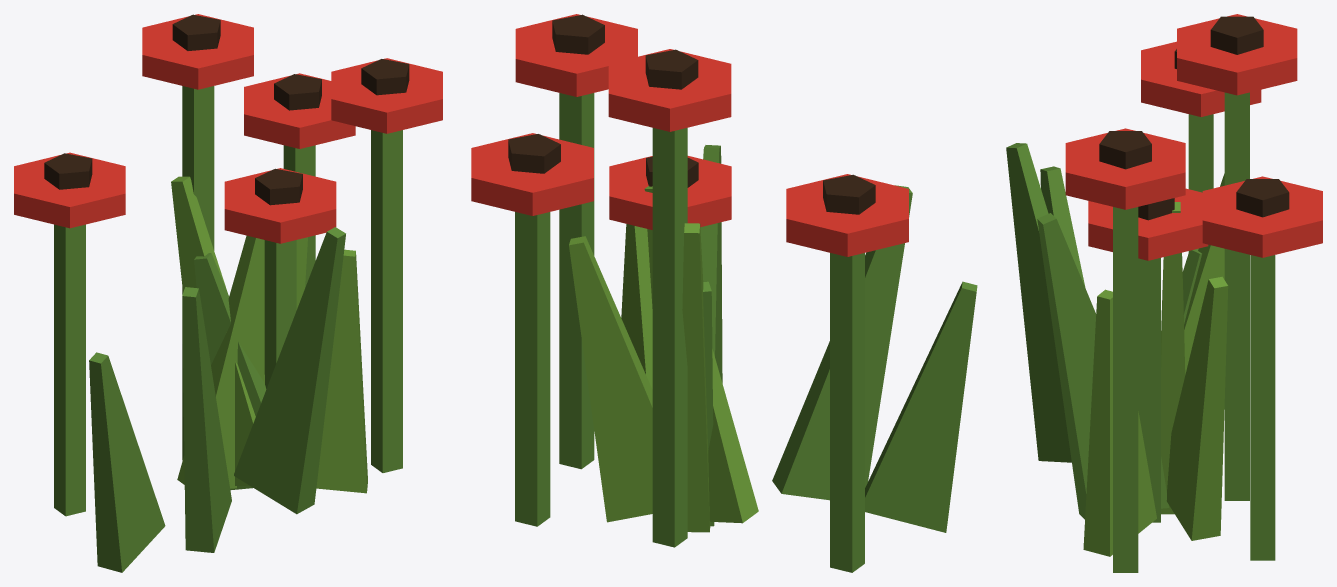
Rendered from Flowers_Poppy.fbx.
3 renders of one model, left to right at view 1: azimuth 30°, elevation 25°; view 2: azimuth 150°, elevation 25°; view 3: azimuth 270°, elevation 25°, orthographic. The views are drawn at different scales.
Visible parts, largest first — view 1: Flowers_Poppy; view 2: Flowers_Poppy; view 3: Flowers_Poppy.
Boxes of the visible parts, x1,y1,x2,y2 form: Flowers_Poppy: (14, 14, 442, 572); Flowers_Poppy: (471, 14, 977, 572); Flowers_Poppy: (1006, 14, 1322, 572).
Bounding box in the file's own units: 0.3876 × 0.4163 × 0.2511.
